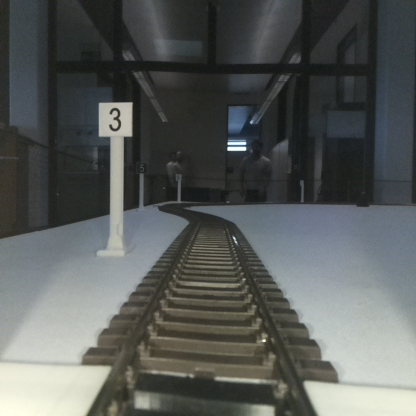black-info-5: (137, 161, 147, 209)
white-info-3: (99, 102, 132, 255)
